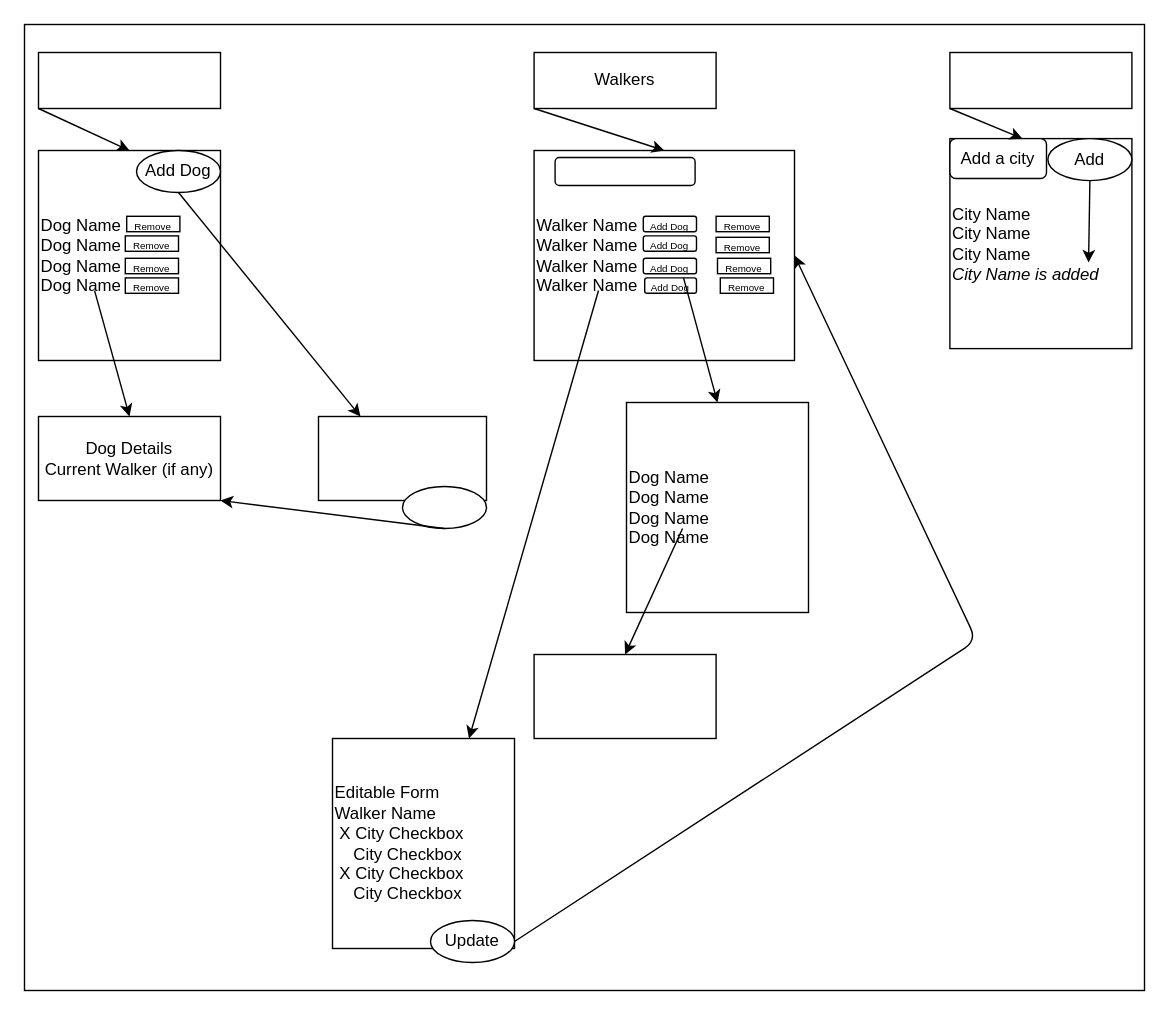
The diagram is 1169 pixels wide and 1015 high, and some of its shapes have lost their labels. Each missing label, with the centre of its shape:
"Cities" belongs at (1040,79).
"City Dropdown" belongs at (624,171).
"Dog Details Current Walker" belongs at (624,695).
"Home/Dogs" belongs at (128,79).
"New Dog Form" belongs at (401,457).
"Submit" belongs at (443,506).
